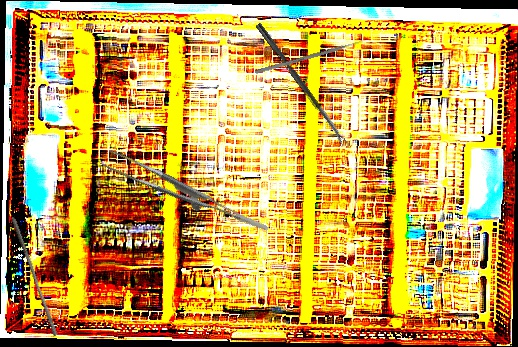Pusher: (6, 216, 62, 337), (254, 37, 370, 75)
Surgical Spoon: (254, 22, 348, 147)
Tissue Forceps: (100, 133, 269, 258)
